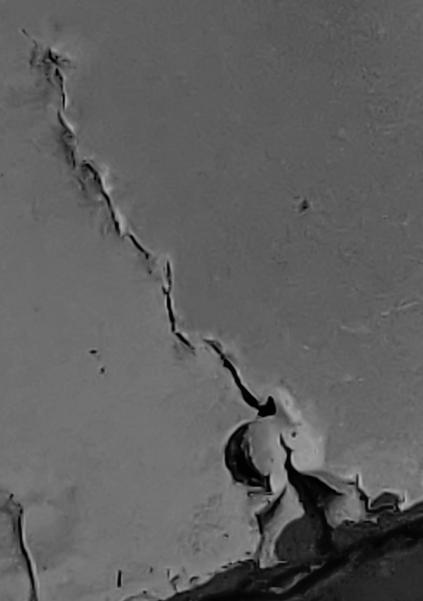crack: (0, 1, 423, 601)
